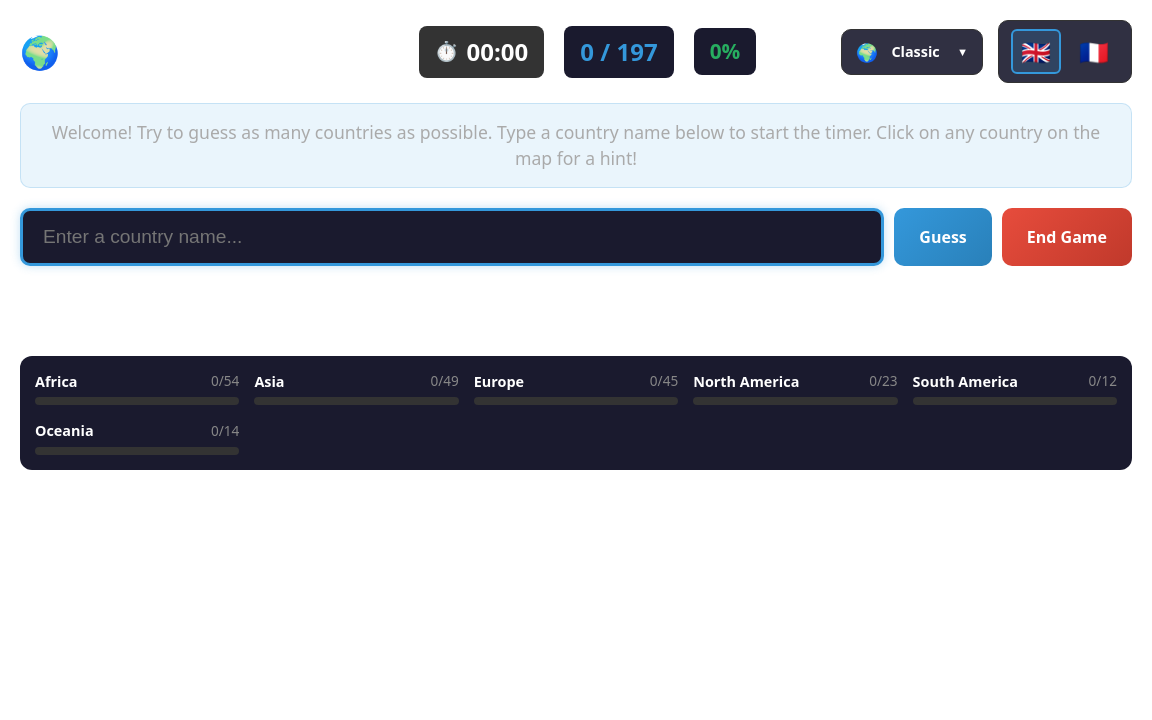
Test: Game Component › country guessing flow › should show duplicate warning for already guessed country
Type "France" into the field with placeholder "Enter a country name..." at (452, 237), box [20,208,884,266]
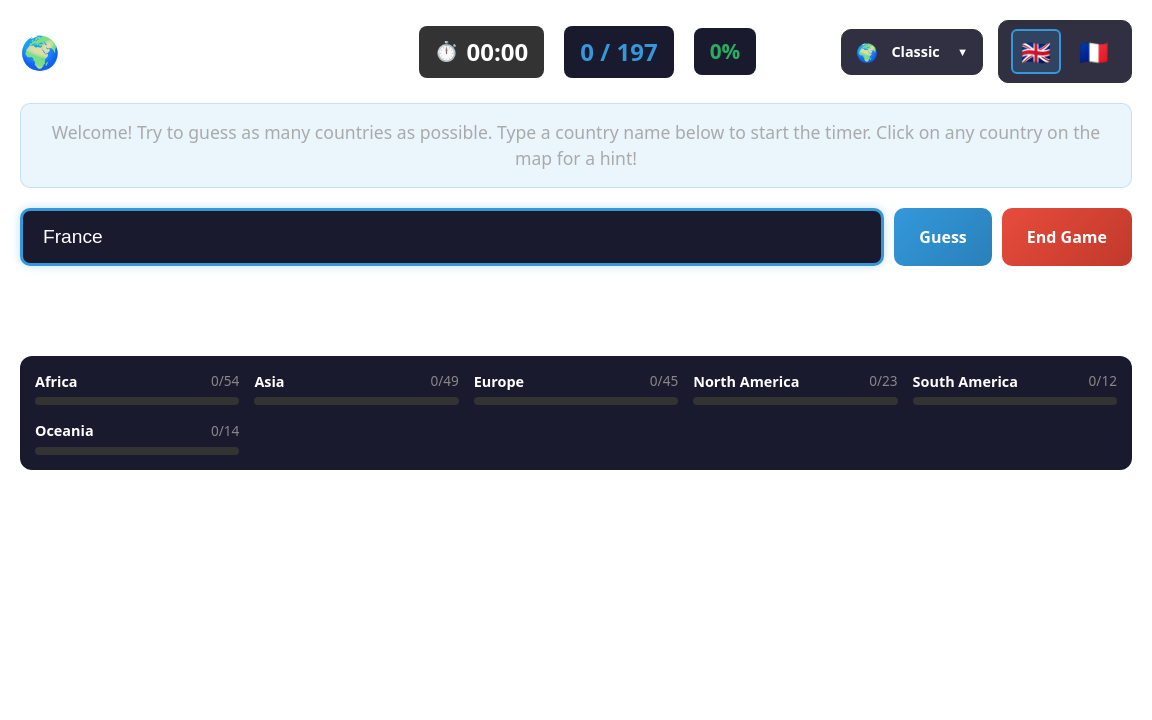
Click the button "Guess" at (943, 237), box [894,208,992,266]
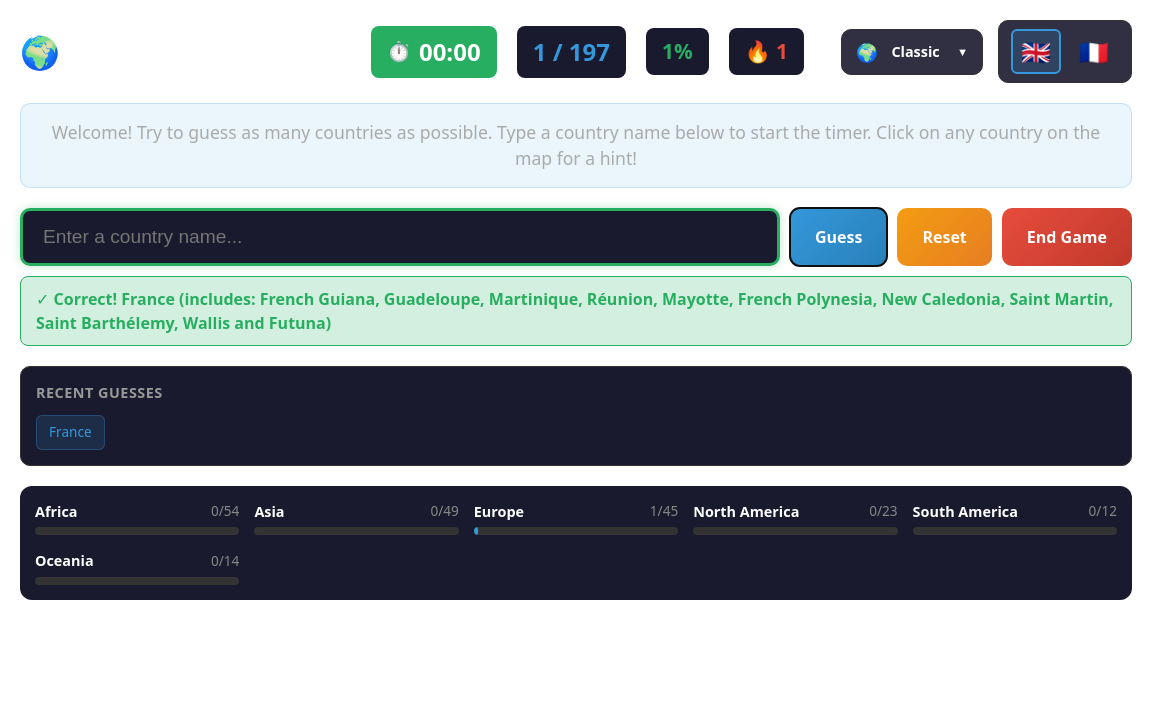
Type "France" into the field with placeholder "Enter a country name..." at (400, 237), box [20,208,780,266]
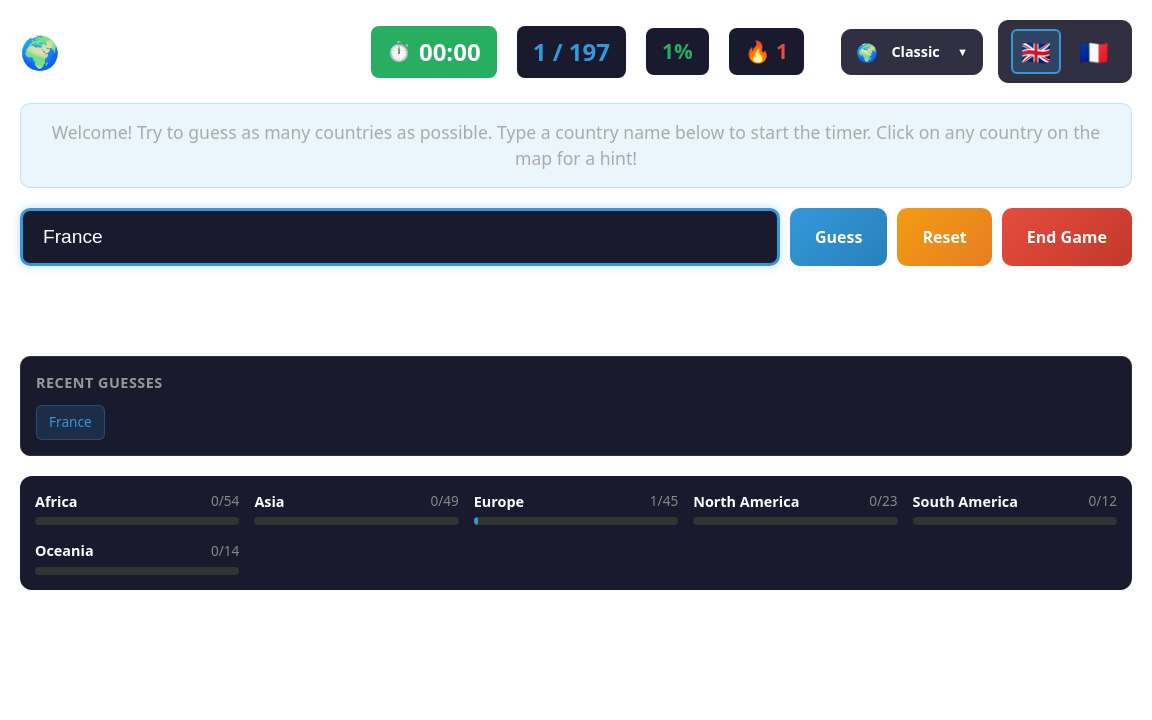
Click the button "Guess" at (839, 237), box [790,208,888,266]
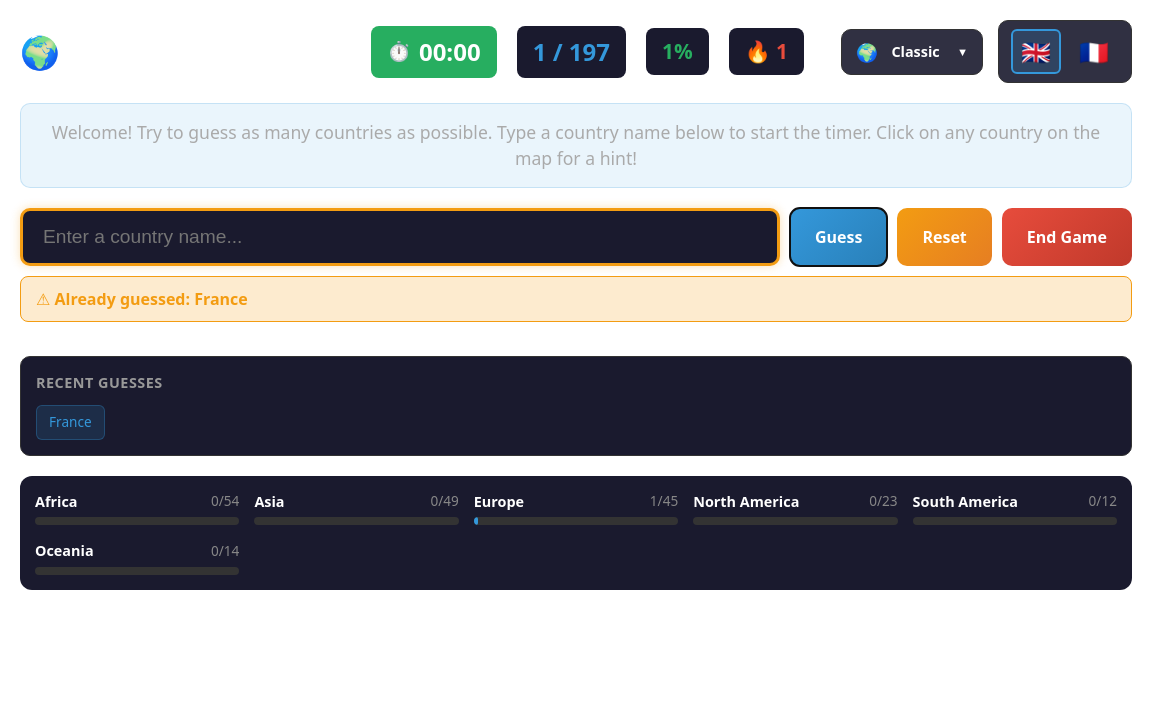
Check: the text "⚠ Already guessed: France" is shown, box [20,276,1132,322]
